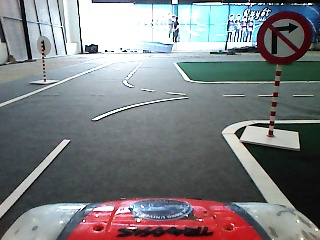ban_right: (257, 11, 311, 64)
